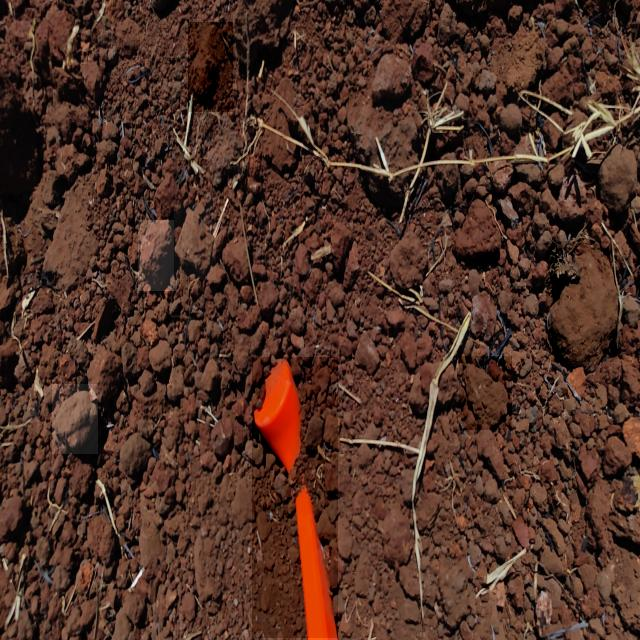Orange_hammer: (252, 357, 338, 638)
rock: (546, 241, 617, 362), (188, 22, 233, 112), (459, 356, 512, 430), (452, 192, 504, 266), (174, 200, 216, 280), (52, 384, 98, 454), (372, 45, 418, 110), (138, 220, 177, 291), (354, 329, 384, 381), (496, 94, 524, 149)
